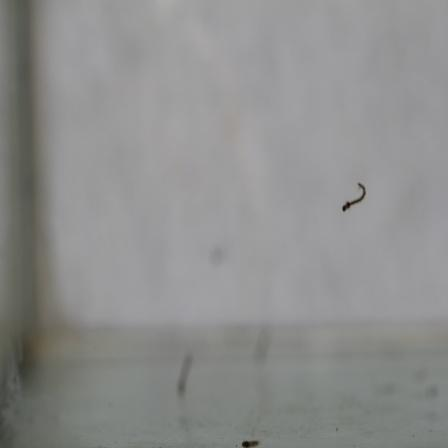Jentik-Nyamuk: (338, 180, 369, 214), (238, 437, 262, 448)
